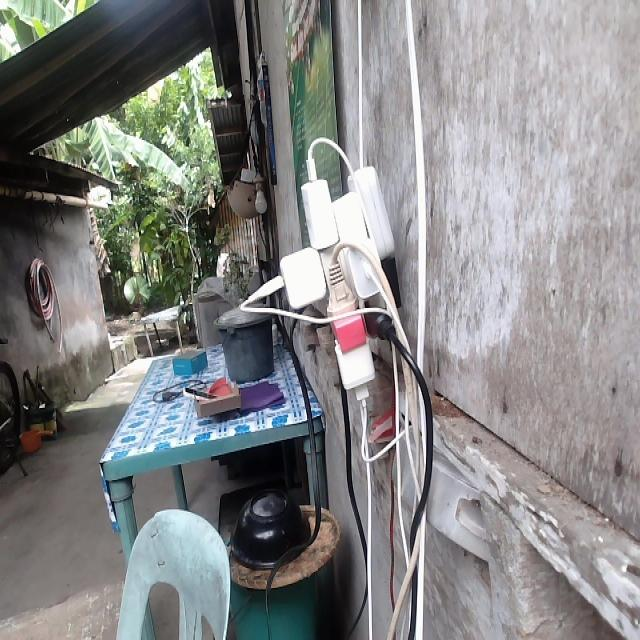-: (245, 135, 397, 409)
